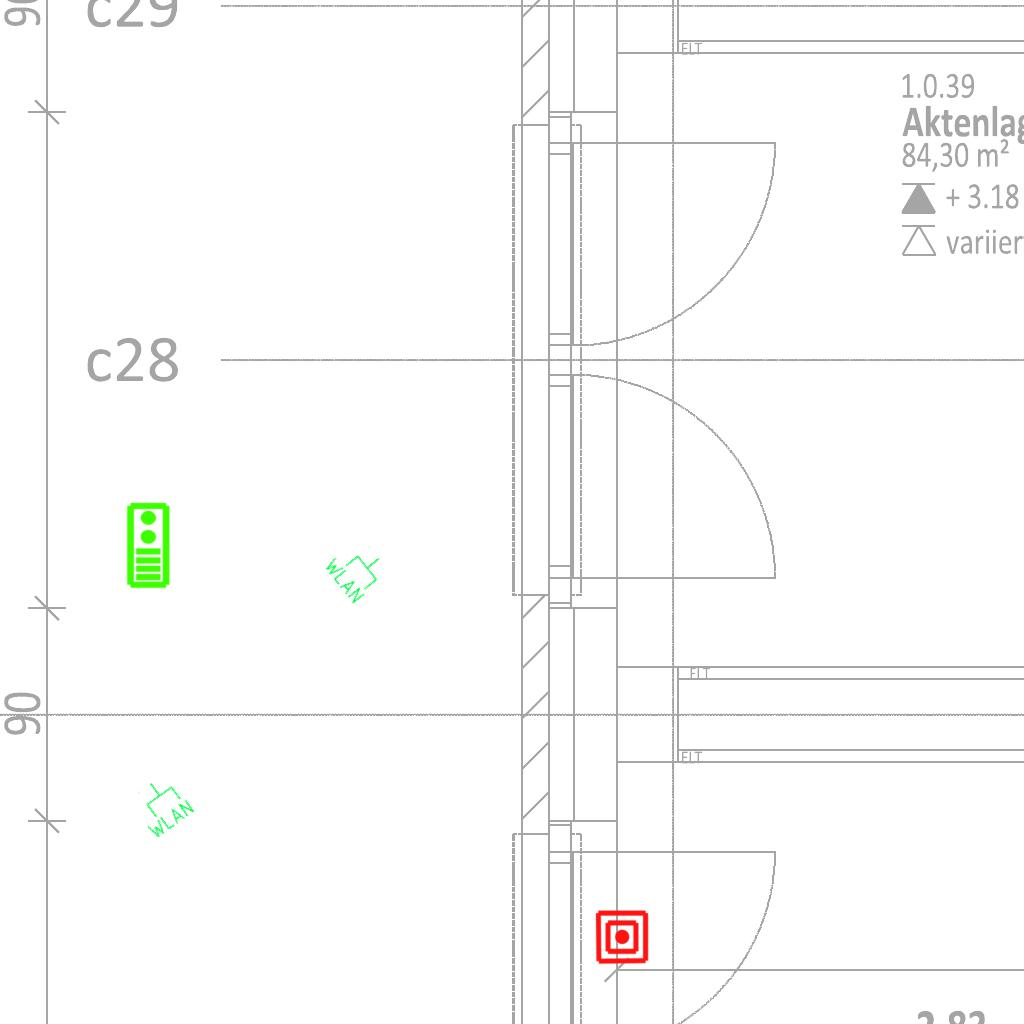Gegensprechanlage_mit_Video: (124, 501, 171, 589)
NAM-Nichtautomatischer_Melder: (594, 909, 650, 965)
WLAN: (320, 533, 394, 607), (124, 769, 198, 843)
